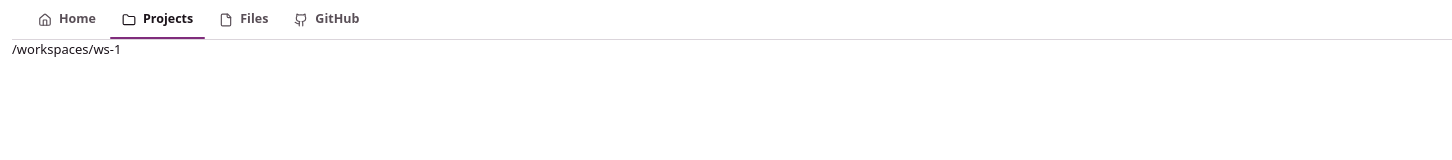
Test: SubNav › shows Home's sections on Home pages
Click the button "Files".
click(244, 20)  # box [207,6,280,34]
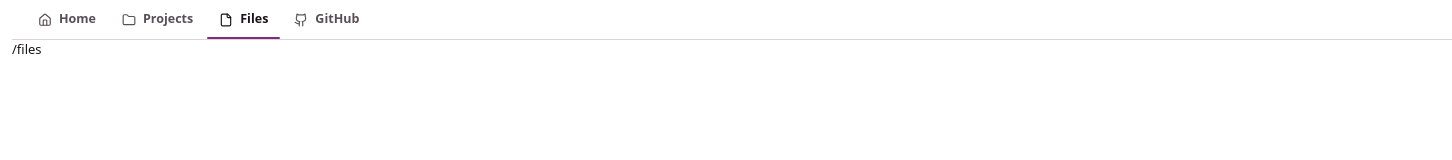
Result: the text with test id "where" reads "/files" at [12,40,42,58]
